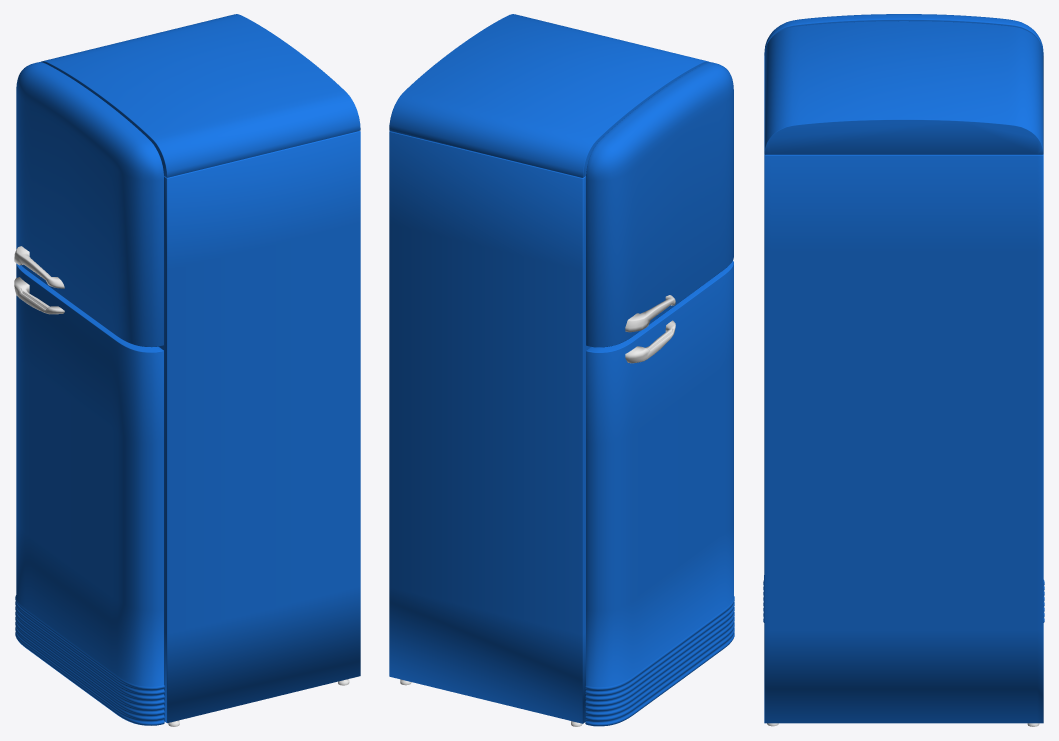
The model's file is Fridge_Meshtesting.fbx.
3 renders of one model, left to right at view 1: azimuth 30°, elevation 25°; view 2: azimuth 150°, elevation 25°; view 3: azimuth 270°, elevation 25°, orthographic. The views are drawn at different scales.
Parts seen in each view (by area): view 1: Fridge; view 2: Fridge; view 3: Fridge.
Boxes of the visible parts, x1,y1,x2,y2 form: Fridge: (14, 14, 360, 726); Fridge: (389, 14, 734, 726); Fridge: (763, 14, 1044, 726).
Bounding box in the file's own units: 80.08 × 192 × 80.23.
